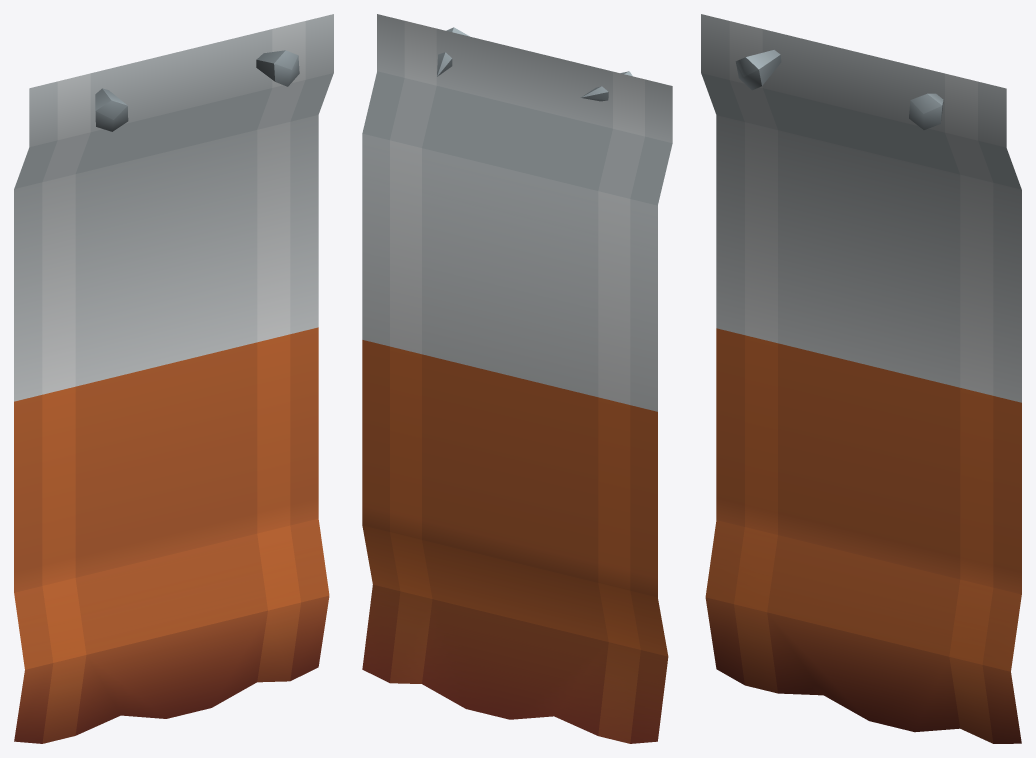
Rendered from banner_patternB_brown.gltf.
The picture shows the model from 3 angles, left to right: view 1: azimuth 30°, elevation 25°; view 2: azimuth 150°, elevation 25°; view 3: azimuth 330°, elevation 25°; orthographic projection. The views are drawn at different scales.
Visible parts, largest first — view 1: banner_patternB_brown; view 2: banner_patternB_brown; view 3: banner_patternB_brown.
Part boxes in pixels (left/top/right/bottom): banner_patternB_brown: left=14, top=14, right=333, bottom=743; banner_patternB_brown: left=362, top=14, right=672, bottom=743; banner_patternB_brown: left=701, top=14, right=1021, bottom=743.
Size of the model in its own units: 1.5 by 3.2 by 0.3119.
1 material, 1 textured.
